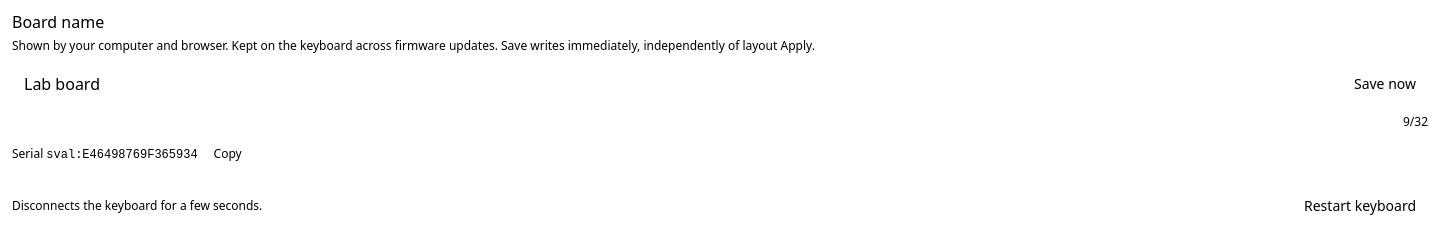
Test: BoardIdentitySection board actions › copies the serial
This screenshot has width=1440, height=232.
Click the button with aria-label "Copy serial" at (228, 154), box [206,142,250,166]
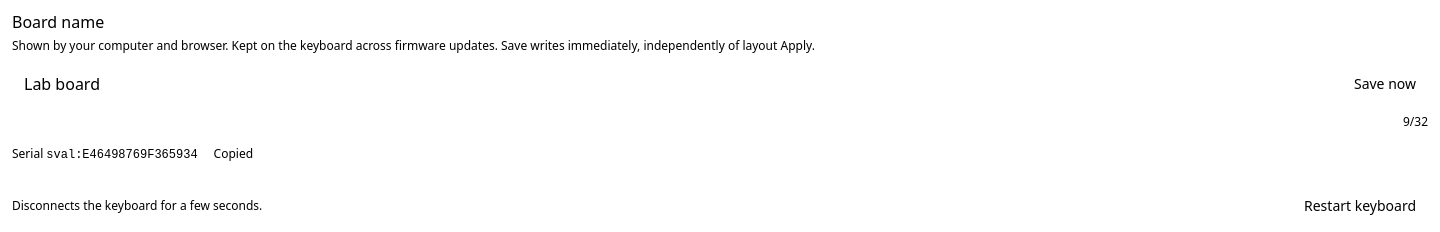
Expected: the button "Copied" is shown, [206,142,261,166]
